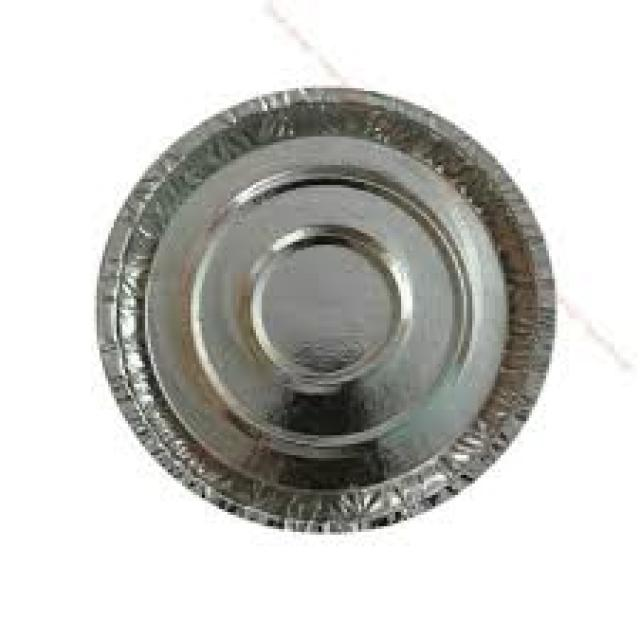PaperCardboard: (91, 76, 561, 540)
